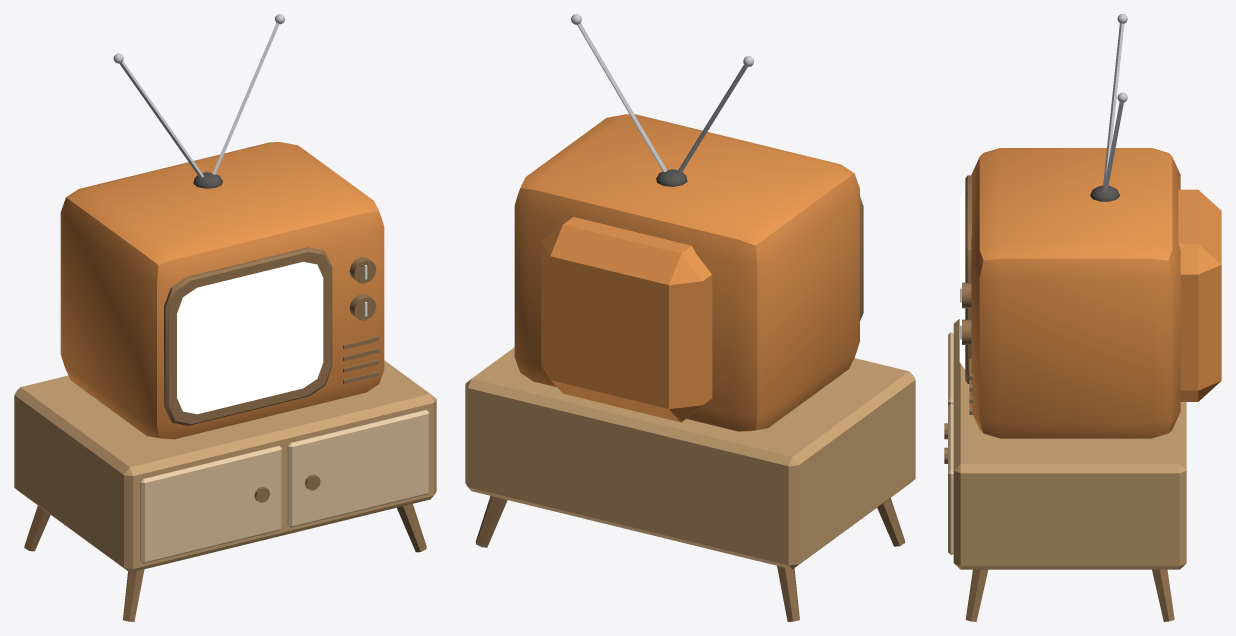
The model's file is furn_tv_retro.glb.
3 renders of one model, left to right at view 1: azimuth 30°, elevation 25°; view 2: azimuth 150°, elevation 25°; view 3: azimuth 270°, elevation 25°, orthographic. The views are drawn at different scales.
Parts seen in each view (by area): view 1: furn_tv_retro_body; view 2: furn_tv_retro_body; view 3: furn_tv_retro_body.
Part boxes in pixels (x1,y1,x2,y2): furn_tv_retro_body: (14, 14, 436, 621); furn_tv_retro_body: (465, 14, 915, 621); furn_tv_retro_body: (944, 14, 1221, 621).
Size of the model in its own units: 0.62 by 0.9421 by 0.476.
